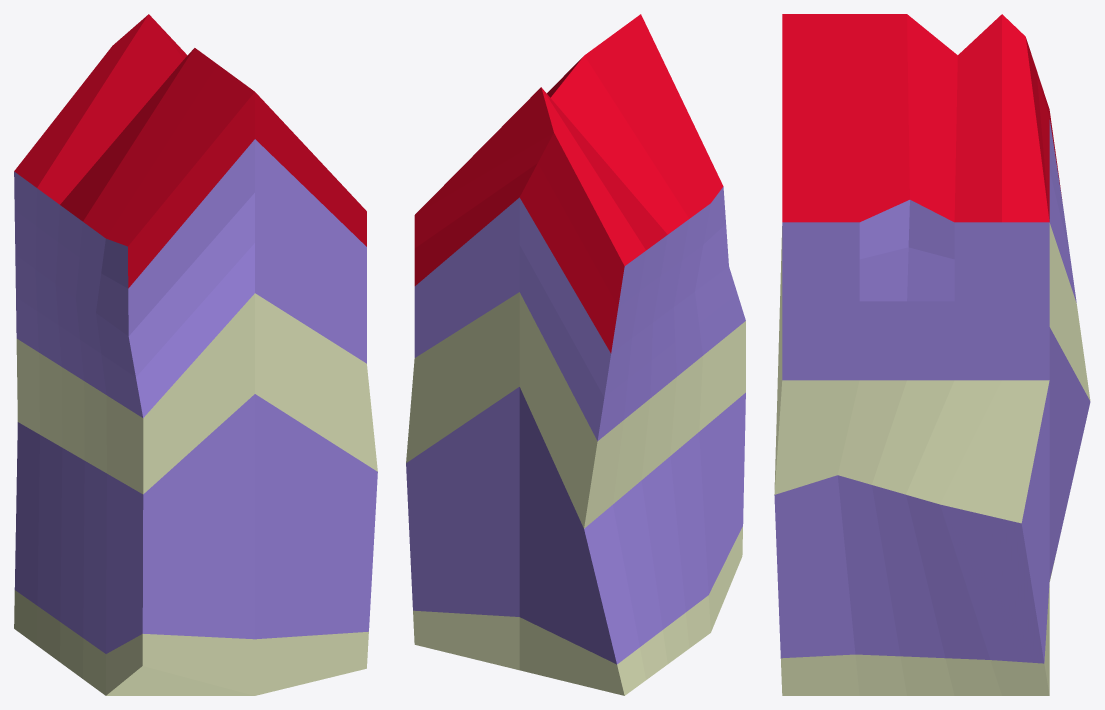
The model's file is nosort1.fbx.
The picture shows the model from 3 angles, left to right: view 1: azimuth 30°, elevation 25°; view 2: azimuth 150°, elevation 25°; view 3: azimuth 270°, elevation 25°; orthographic projection. The views are drawn at different scales.
Visible parts, largest first — view 1: Milk; view 2: Milk; view 3: Milk.
Boxes of the visible parts, x1,y1,x2,y2 form: Milk: (14, 14, 377, 695); Milk: (406, 14, 745, 695); Milk: (774, 14, 1090, 695).
Size of the model in its own units: 220 by 516 by 236.
